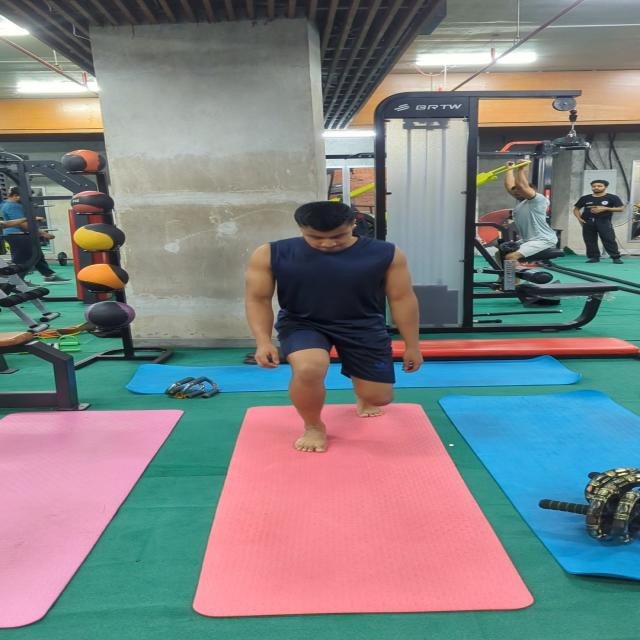Normal_Lunges: (240, 195, 430, 457)
